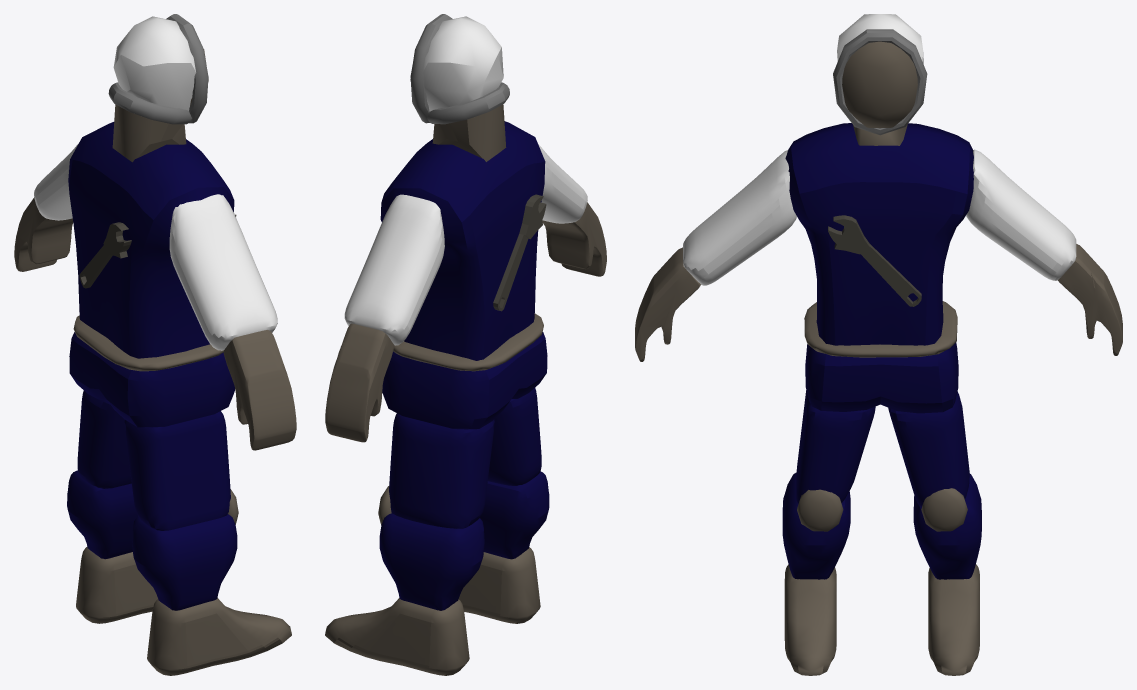
The model's file is Engineer.fbx.
3 renders of one model, left to right at view 1: azimuth 30°, elevation 25°; view 2: azimuth 150°, elevation 25°; view 3: azimuth 270°, elevation 25°, orthographic.
Visible parts, largest first — view 1: Body, ArmRight, LegRight, Cube.006, Cube.004, BottomLegRight, HandRight, BaseHead, Cube.003, BottomLegRight.001, LegLeft, HandRight.001 (+6 smaller); view 2: Body, LegLeft, ArmLeft, Cube.006, Cube.003, BottomLegRight.001, BaseHead, HandRight.001, Cube.004, BottomLegRight, LegRight, HandRight (+6 smaller); view 3: Body, Cube.006, ArmRight, ArmLeft, LegLeft, LegRight, BlackCover, Cube.004, Cube.003, BottomLegRight, BottomLegRight.001, HandRight (+8 smaller).
Boxes of the visible parts, x1,y1,x2,y2 form: Body: (68, 122, 234, 358); ArmRight: (169, 194, 277, 350); LegRight: (124, 411, 230, 530); Cube.006: (69, 332, 234, 427); Cube.004: (147, 598, 291, 675); BottomLegRight: (132, 514, 237, 610); HandRight: (223, 330, 296, 450); BaseHead: (113, 16, 195, 110); Cube.003: (76, 547, 157, 623); BottomLegRight.001: (67, 470, 138, 559); LegLeft: (77, 390, 131, 488); HandRight.001: (14, 197, 73, 271); Body: (380, 121, 545, 360); LegLeft: (389, 413, 494, 528); ArmLeft: (344, 194, 444, 345); Cube.006: (382, 332, 547, 429); Cube.003: (325, 598, 469, 675); BottomLegRight.001: (379, 513, 484, 610); BaseHead: (423, 16, 503, 111); HandRight.001: (325, 323, 394, 442); Cube.004: (458, 547, 540, 623); BottomLegRight: (480, 471, 549, 559); LegRight: (488, 388, 541, 485); HandRight: (542, 202, 606, 276); Body: (785, 123, 973, 345); Cube.006: (805, 342, 958, 413); ArmRight: (683, 150, 796, 285); ArmLeft: (966, 149, 1076, 280); LegLeft: (888, 391, 969, 506); LegRight: (796, 390, 875, 503); BlackCover: (842, 41, 917, 128); Cube.004: (784, 564, 836, 675); Cube.003: (928, 564, 979, 675); BottomLegRight: (782, 472, 850, 579); BottomLegRight.001: (913, 473, 981, 579); HandRight: (635, 247, 700, 361).
Bounding box in the file's own units: 115 × 422 × 298.
